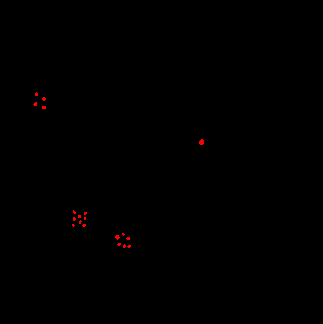Target: (199, 139, 204, 145), (115, 235, 120, 240), (42, 97, 46, 101), (33, 102, 37, 106), (35, 92, 38, 96), (42, 106, 46, 109), (73, 210, 76, 214), (73, 217, 76, 221), (79, 220, 82, 224), (82, 224, 86, 227), (126, 237, 130, 240), (117, 243, 121, 246), (123, 244, 126, 248), (127, 245, 131, 248), (84, 212, 87, 215), (78, 215, 81, 218), (72, 224, 75, 227), (122, 233, 125, 236), (84, 217, 86, 220)
